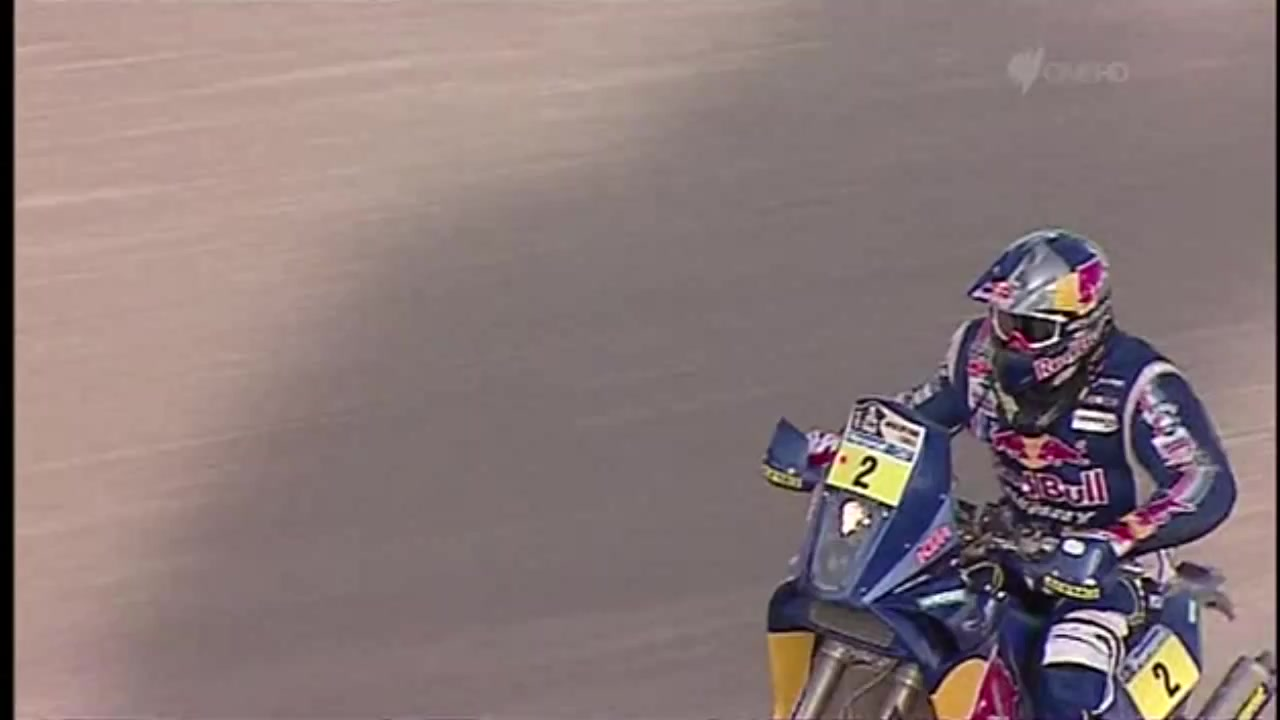motorbike: (758, 390, 1280, 720)
